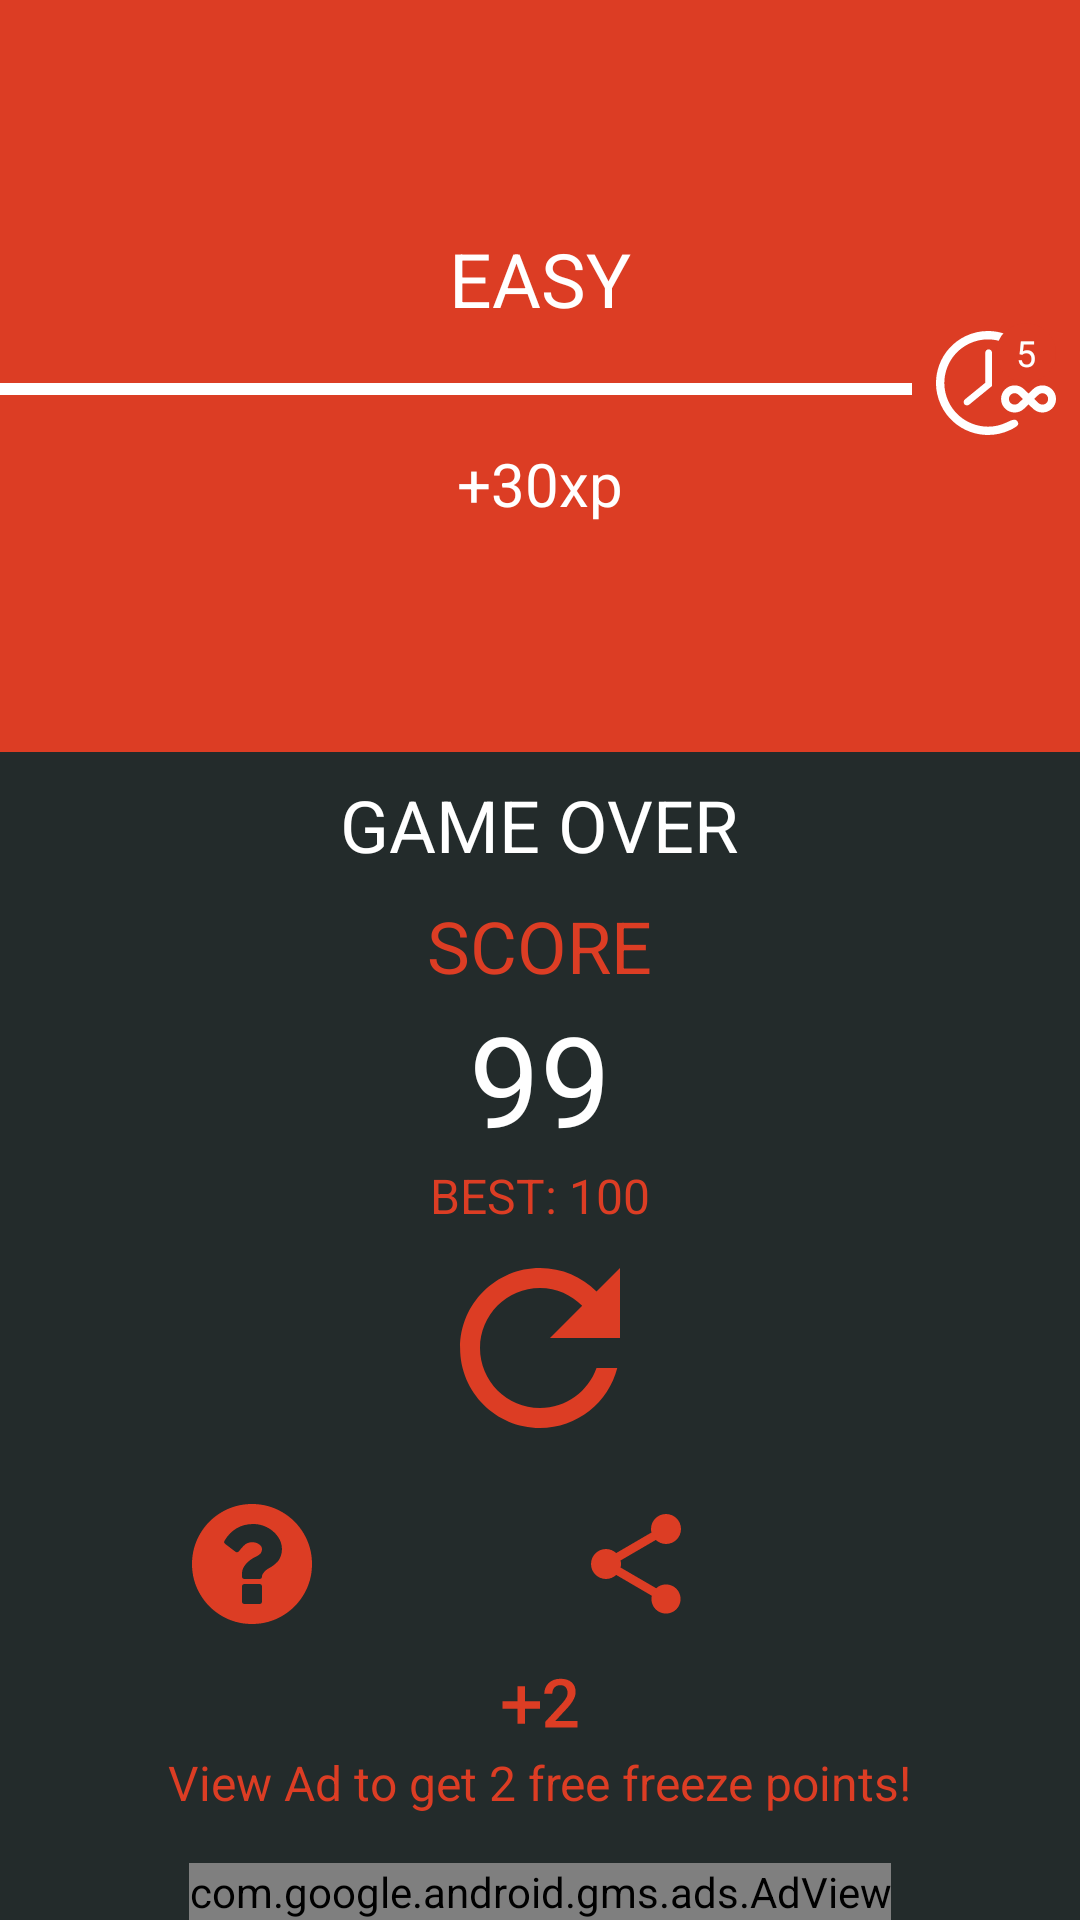

Named icons in this screenshot (1080 x 1920) and their centers, point (x, y):
infinite time: point (996, 383)
refresh: point (540, 1348)
share: point (636, 1564)
